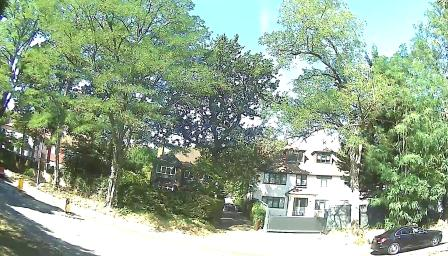Cars: (367, 188, 445, 256)
